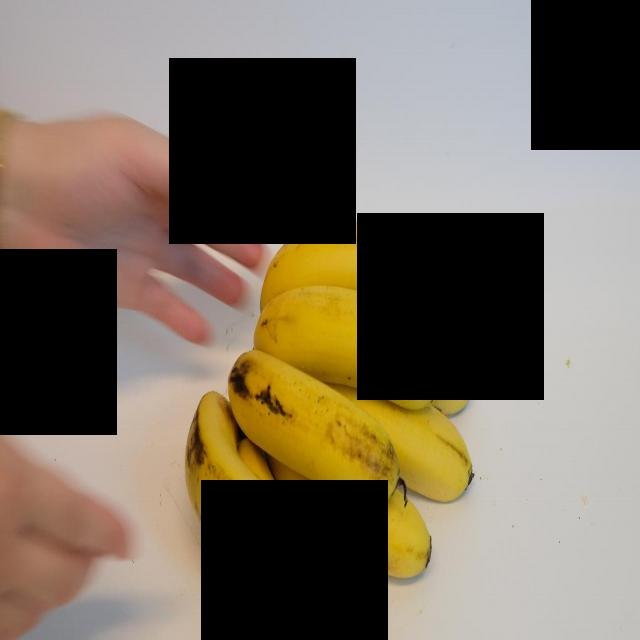banana: (261, 198, 455, 344), (232, 346, 400, 508), (251, 280, 444, 415), (232, 445, 354, 636), (186, 391, 309, 579), (284, 445, 444, 586), (347, 370, 483, 505), (427, 322, 487, 434)
